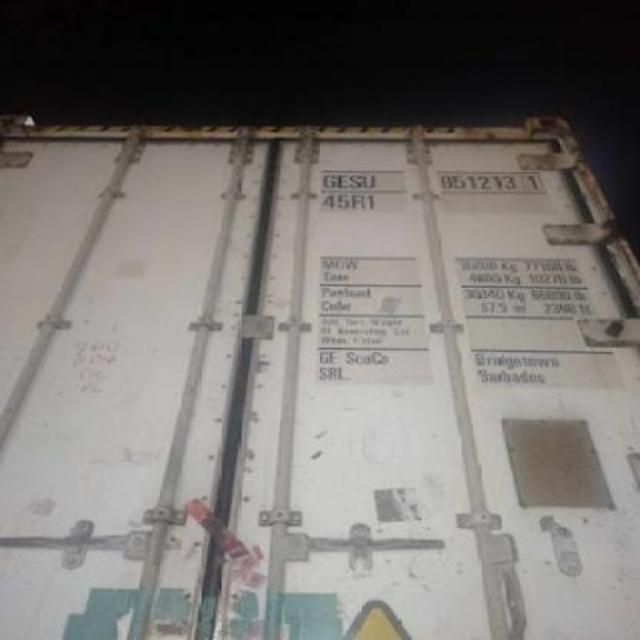1: (526, 174, 540, 190), (466, 174, 478, 190), (492, 174, 504, 190)
2: (476, 174, 489, 190)
3: (502, 176, 516, 188)
5: (452, 174, 466, 190)
9: (441, 174, 454, 190)
E: (340, 174, 350, 190)
G: (324, 174, 338, 188)
S: (348, 174, 362, 188)
U: (362, 174, 376, 190)
